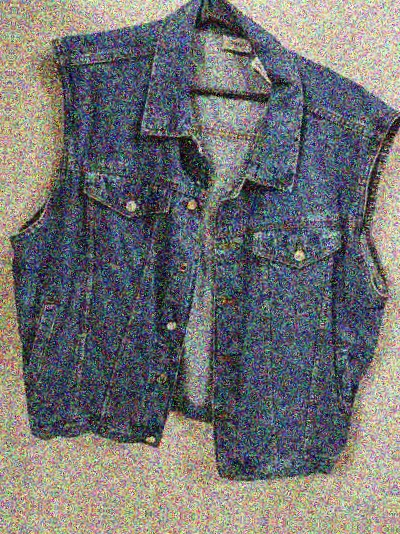Blazer: (8, 0, 400, 488)
